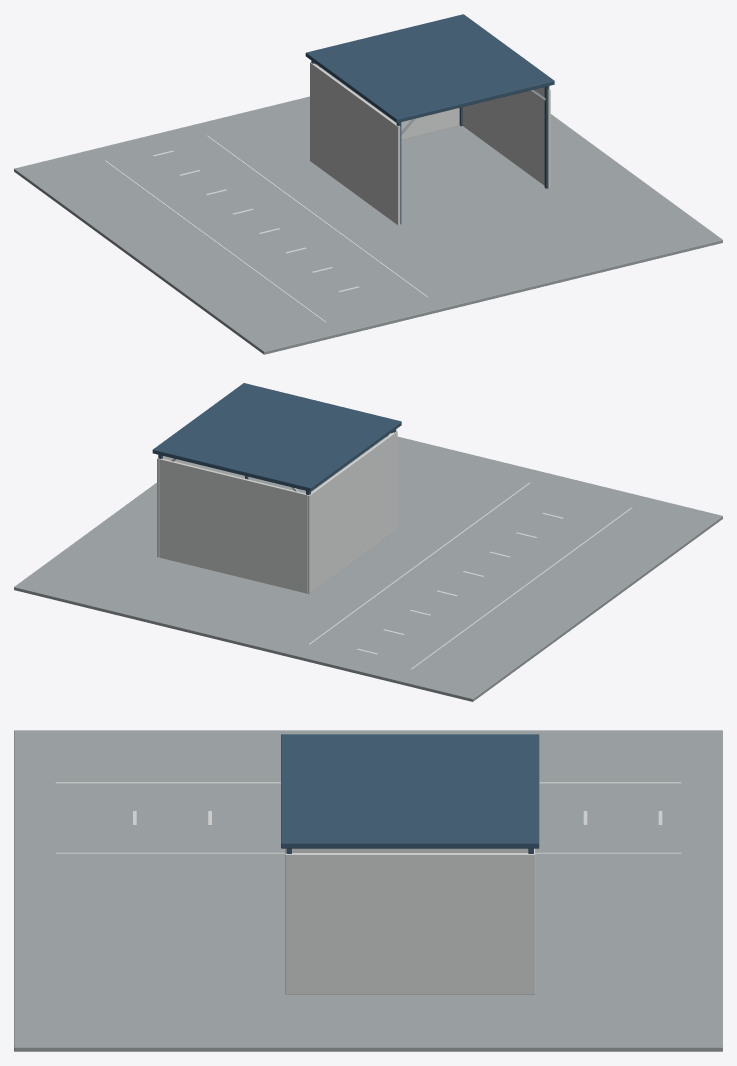
Rendered from container-inspection-and-customs-yard-container-inspec-73227529__29302.glb.
3 views of the same model, one above another, from view 1: azimuth 30°, elevation 25°; view 2: azimuth 150°, elevation 25°; view 3: azimuth 270°, elevation 25° (orthographic). The views are drawn at different scales.
Visible parts, largest first — view 1: container-inspection-and-customs-yard-covered-inspection-she (×3); view 2: container-inspection-and-customs-yard-covered-inspection-she (×3); view 3: container-inspection-and-customs-yard-covered-inspection-she (×3).
Boxes of the visible parts, x1=… form: container-inspection-and-customs-yard-covered-inspection-she (×3): x1=14, y1=14, x2=722, y2=354; container-inspection-and-customs-yard-covered-inspection-she (×3): x1=14, y1=383, x2=722, y2=701; container-inspection-and-customs-yard-covered-inspection-she (×3): x1=14, y1=730, x2=722, y2=1051.
Size of the model in its own units: 18 by 4.17 by 17.
